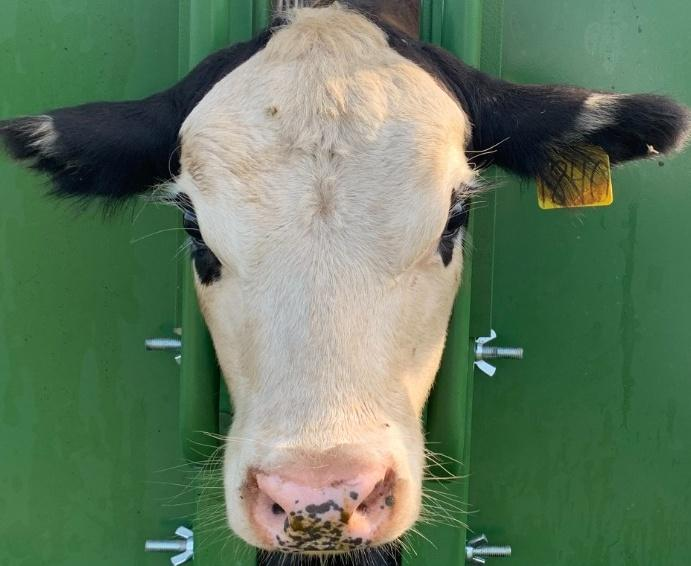muzzles: (196, 436, 445, 560)
